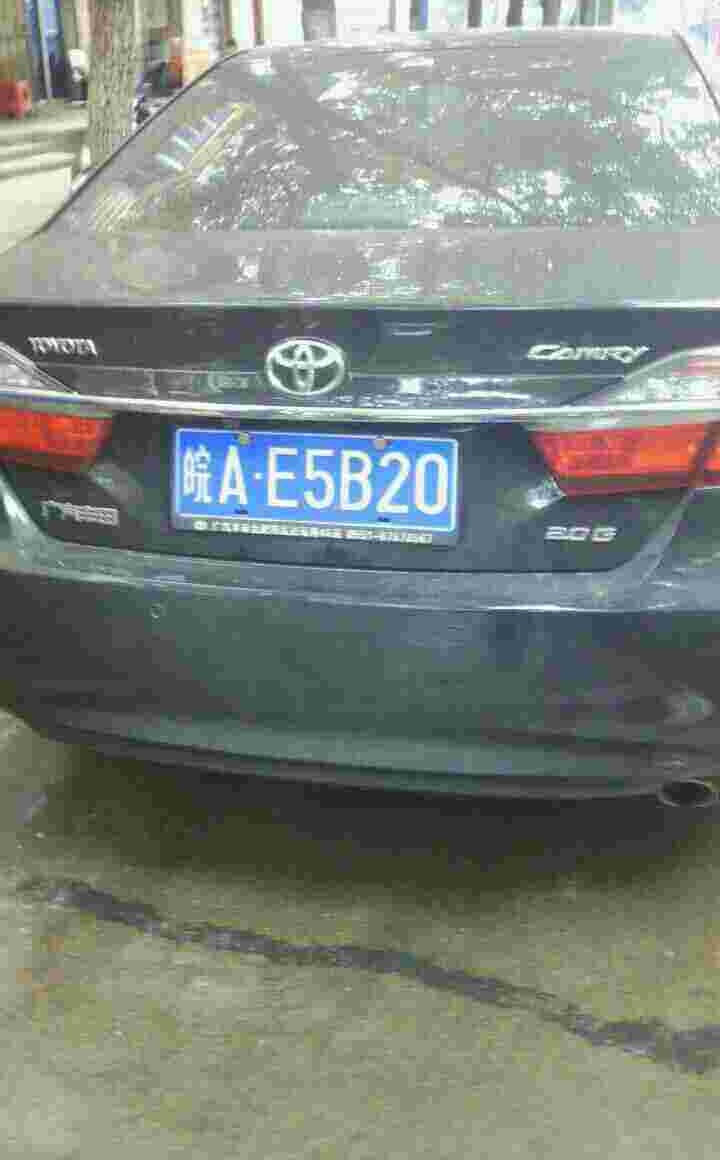license_plate: (177, 426, 460, 531)
